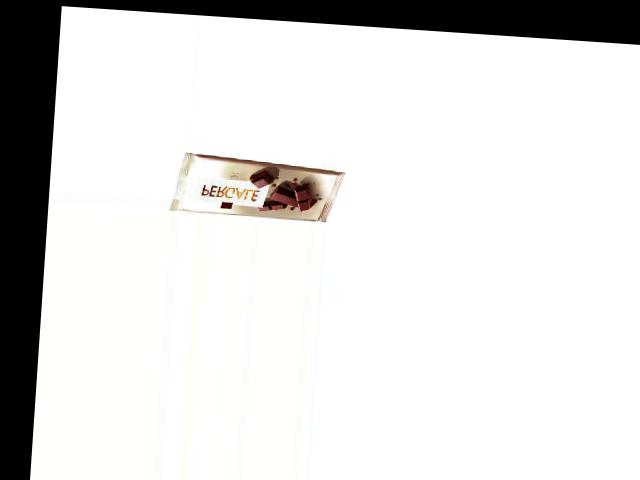chocolate: (167, 153, 348, 223)
